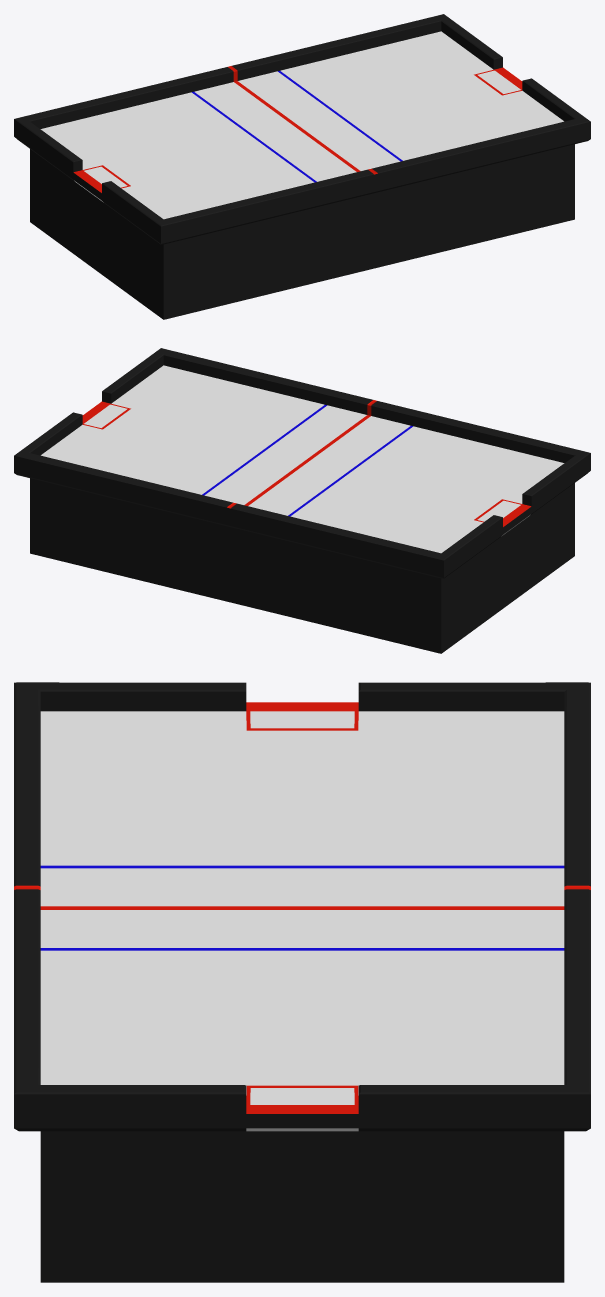
File: hockey pck.fbx
3 views of the same model, one above another, from view 1: azimuth 30°, elevation 25°; view 2: azimuth 150°, elevation 25°; view 3: azimuth 270°, elevation 25° (orthographic). The views are drawn at different scales.
Parts seen in each view (by area): view 1: Hockey Table; view 2: Hockey Table; view 3: Hockey Table.
Part boxes in pixels (x1,y1,x2,y2): Hockey Table: [14, 14, 590, 319]; Hockey Table: [14, 348, 590, 653]; Hockey Table: [14, 682, 590, 1282].
Bounding box in the file's own units: 836 × 188 × 496.
